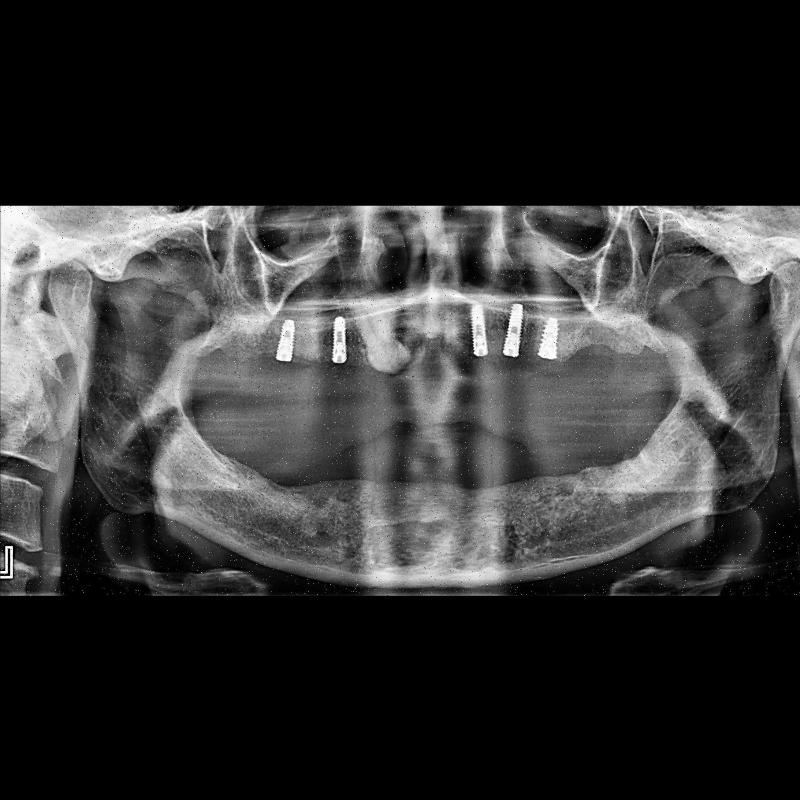osstem: (500, 302, 526, 358), (467, 303, 489, 356), (272, 318, 298, 362), (330, 314, 350, 366)
